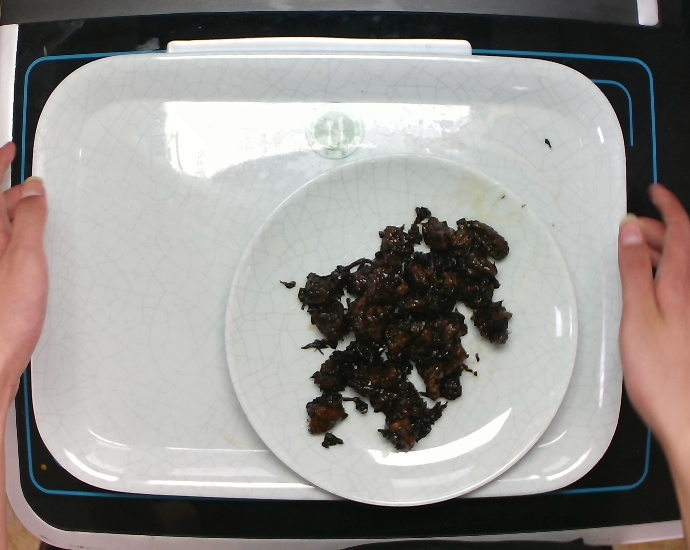JYsf-Da_Yuan_Pan: (219, 151, 582, 510)
